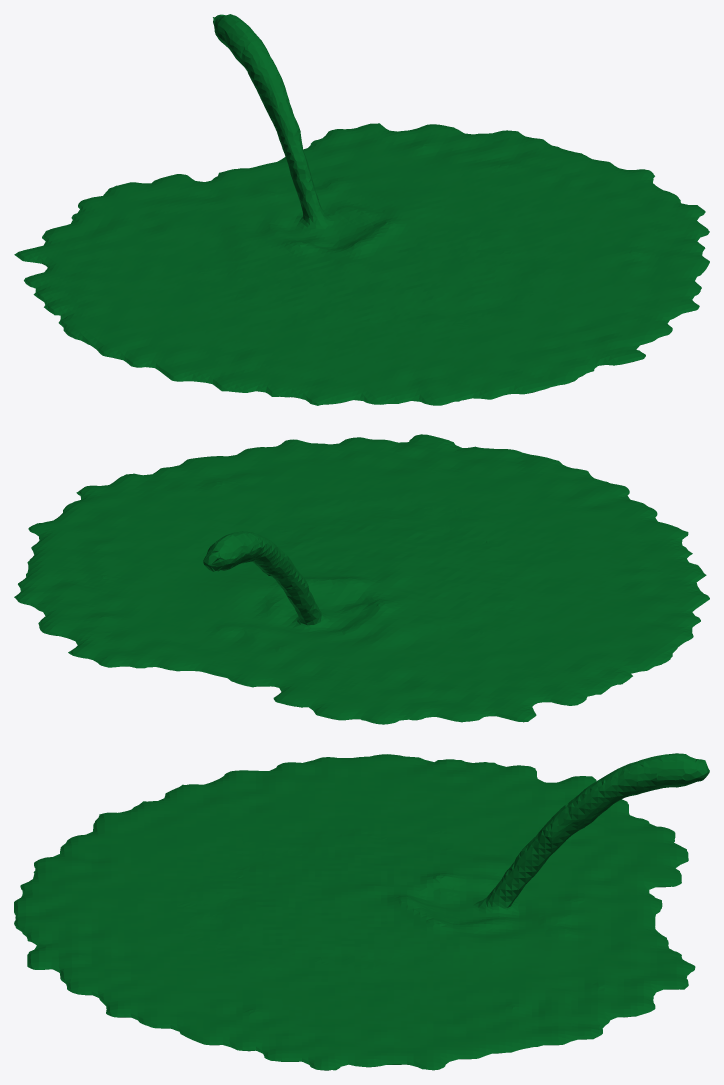
File: fluid_48.fbx
3 views of the same model, one above another, from view 1: azimuth 30°, elevation 25°; view 2: azimuth 150°, elevation 25°; view 3: azimuth 270°, elevation 25° (orthographic). The views are drawn at different scales.
Visible parts, largest first — view 1: Cube; view 2: Cube; view 3: Cube.
Part boxes in pixels (x1,y1,x2,y2): Cube: (14,14,709,405); Cube: (14,434,709,724); Cube: (14,753,709,1070).
Size of the model in its own units: 745 by 177 by 694.
